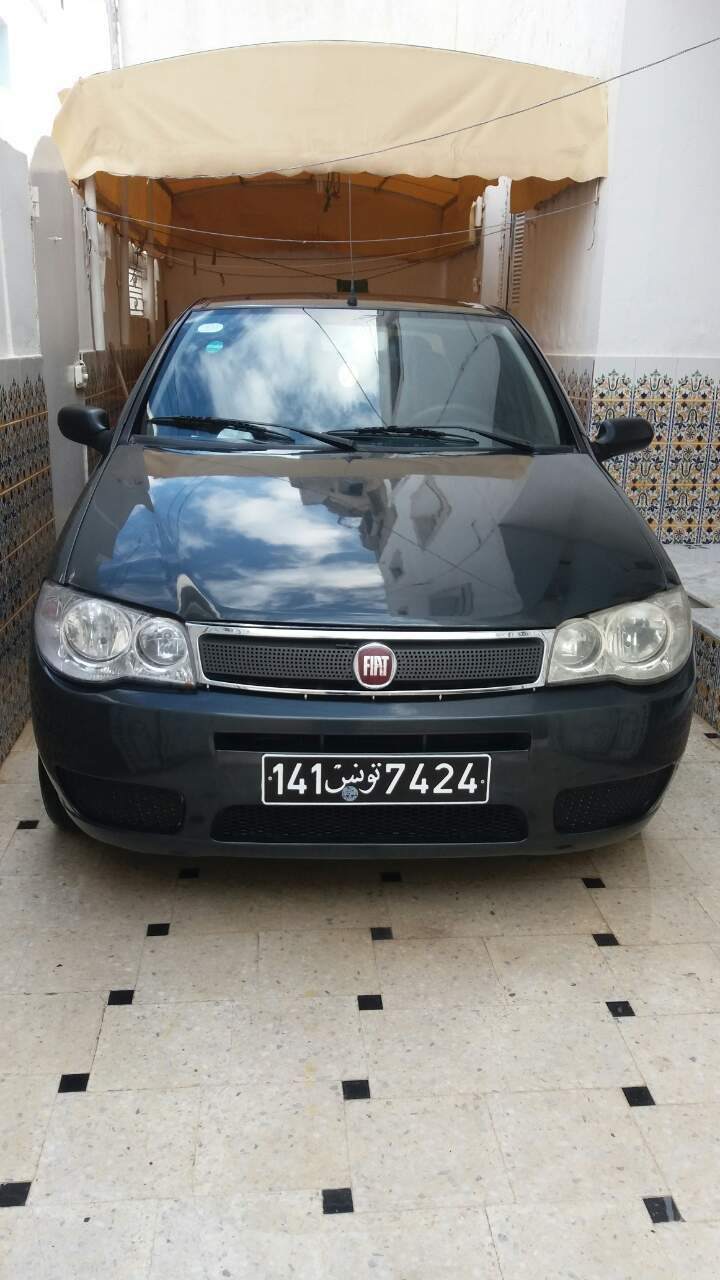LP: (260, 750, 491, 809)
